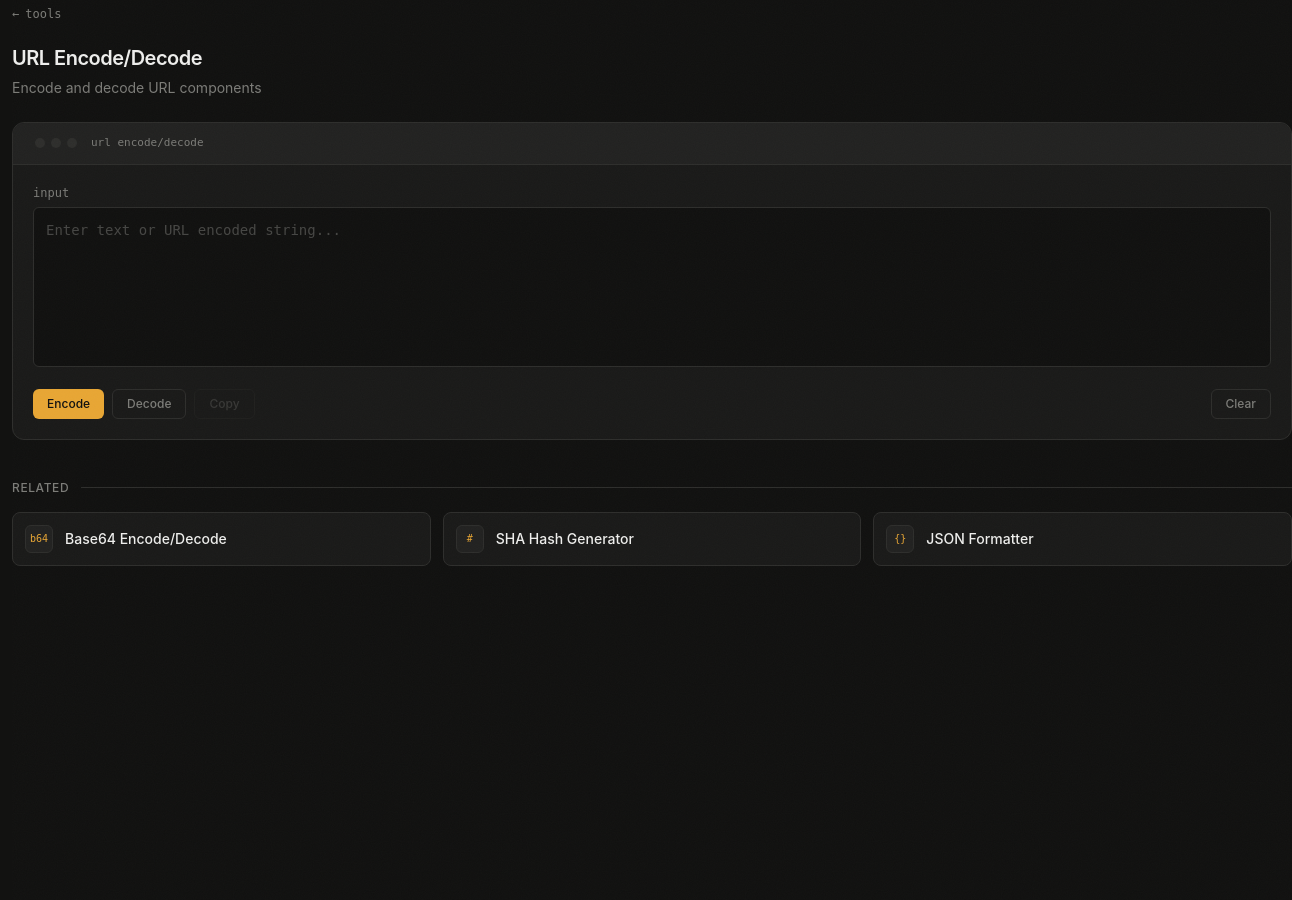
Test: URL Encode/Decode › handles special characters
Type "https://example.com/path?q=hello world#section" into the text box with placeholder "Enter text or URL encoded string...".
click(652, 286); type("https://example.com/path?q=hello world#section")  # box [33,206,1271,366]
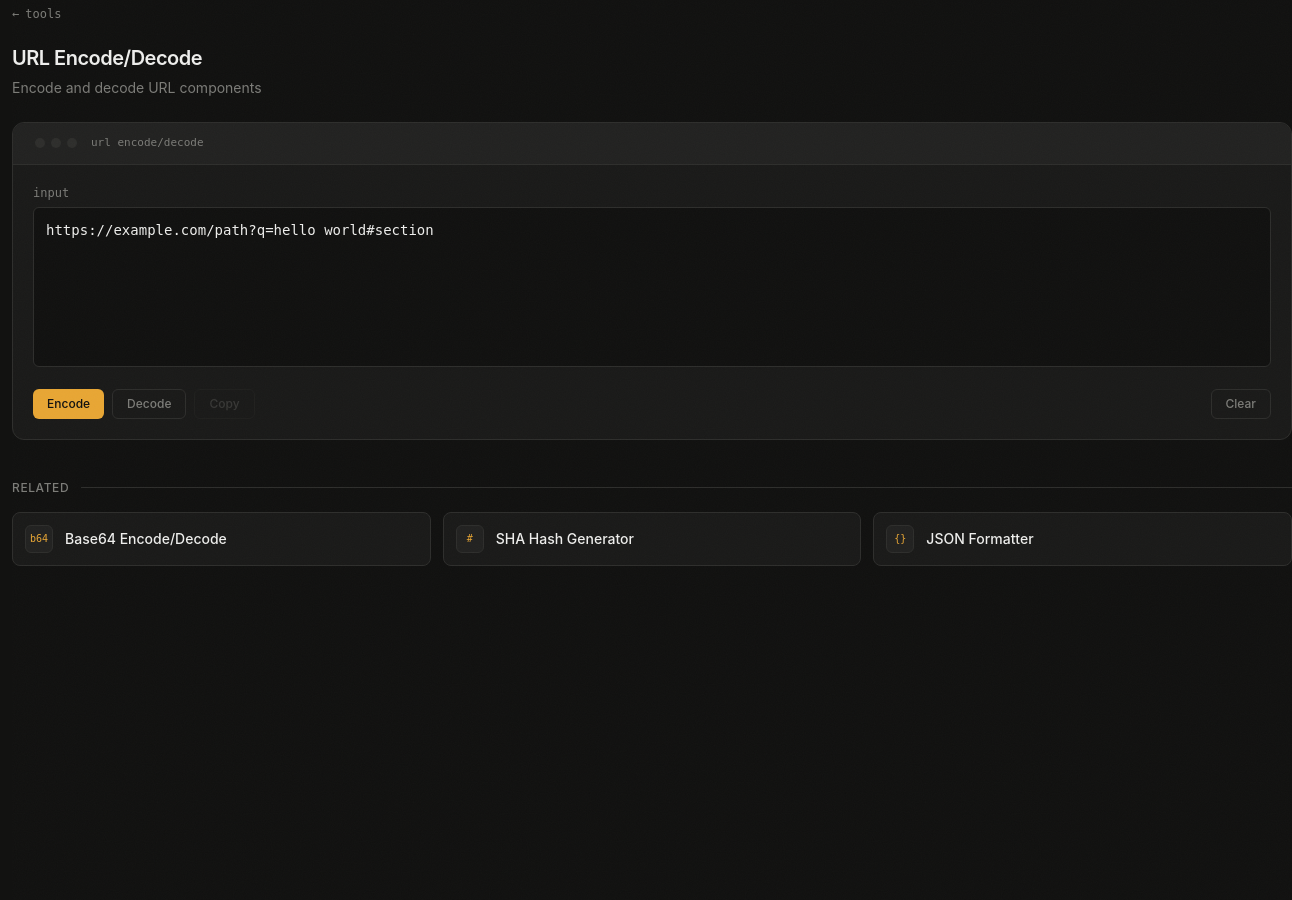
Click the button "Encode".
click(69, 404)  # box [33,388,104,418]
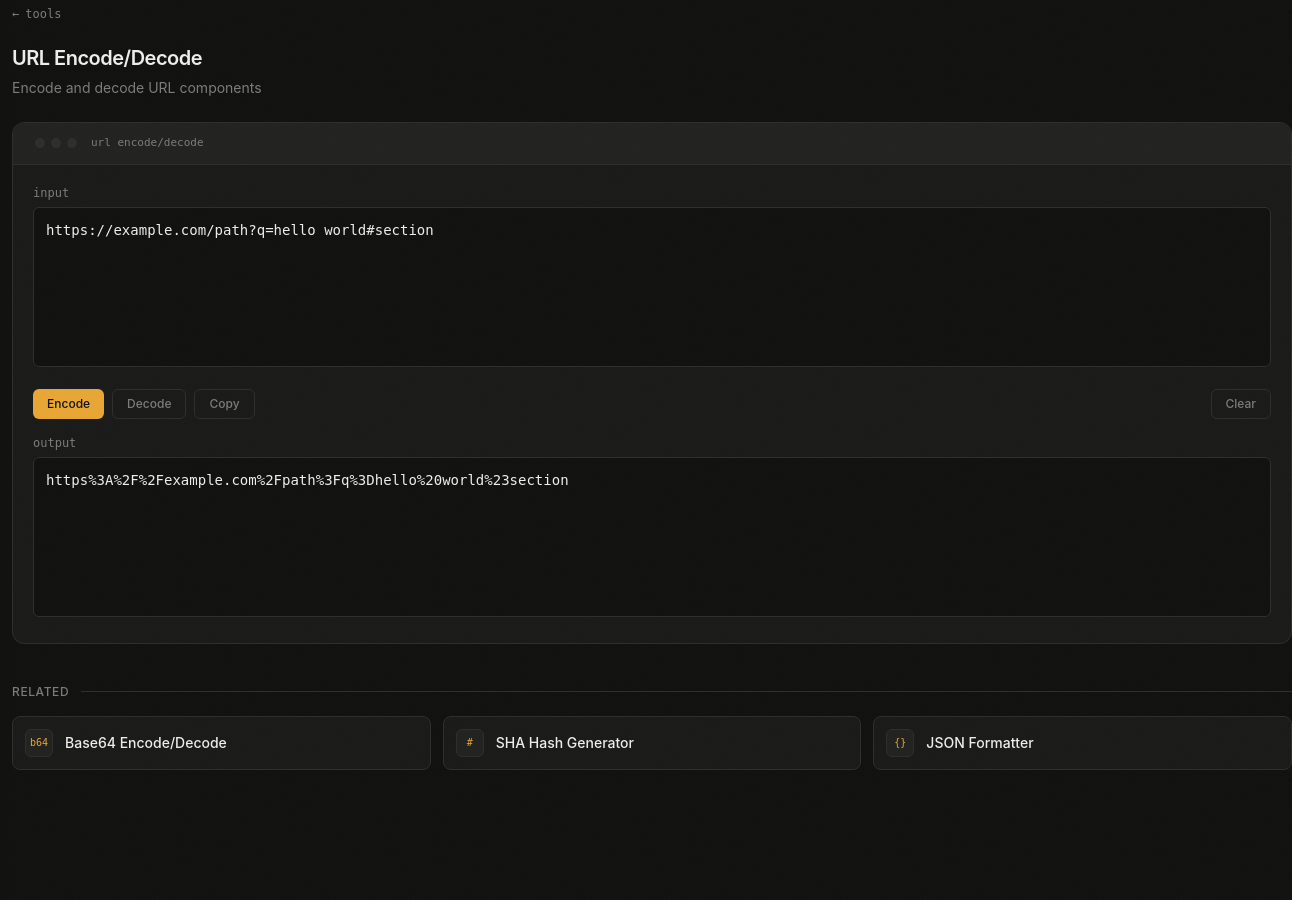
expect the text box showing "https%3A%2F%2Fexample.com%2Fpath%3Fq%3Dhello%20world%23section" below "output" is shown: met, box [33,456,1271,616]
